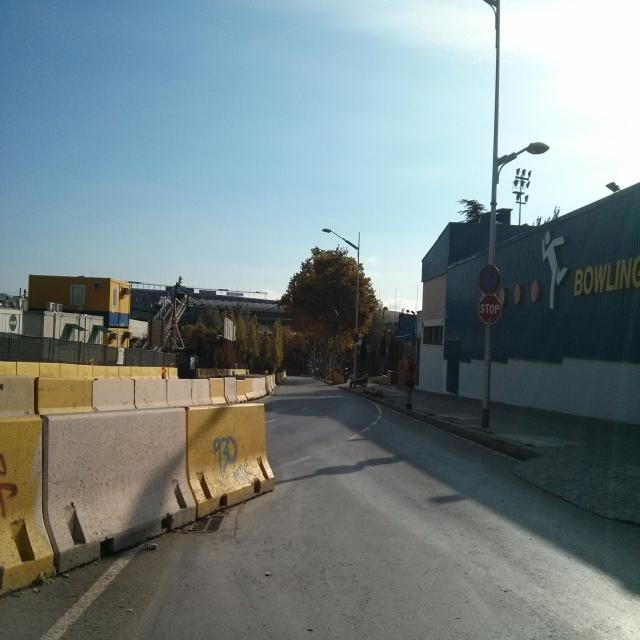car: (348, 372, 369, 387)
